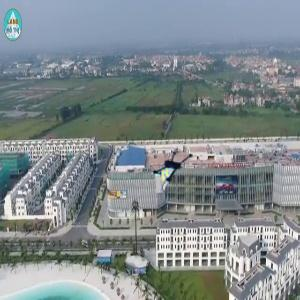drone: (151, 142, 202, 193)
